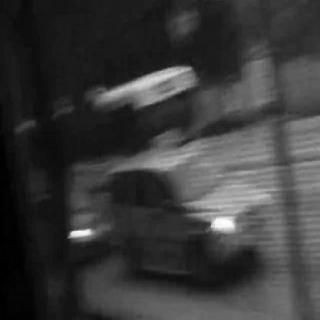other: (63, 224, 95, 240)
